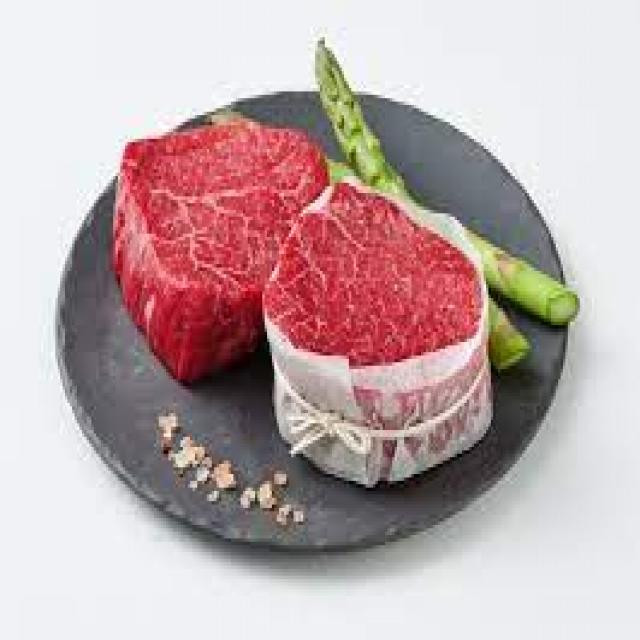Beef: (113, 119, 330, 381)
